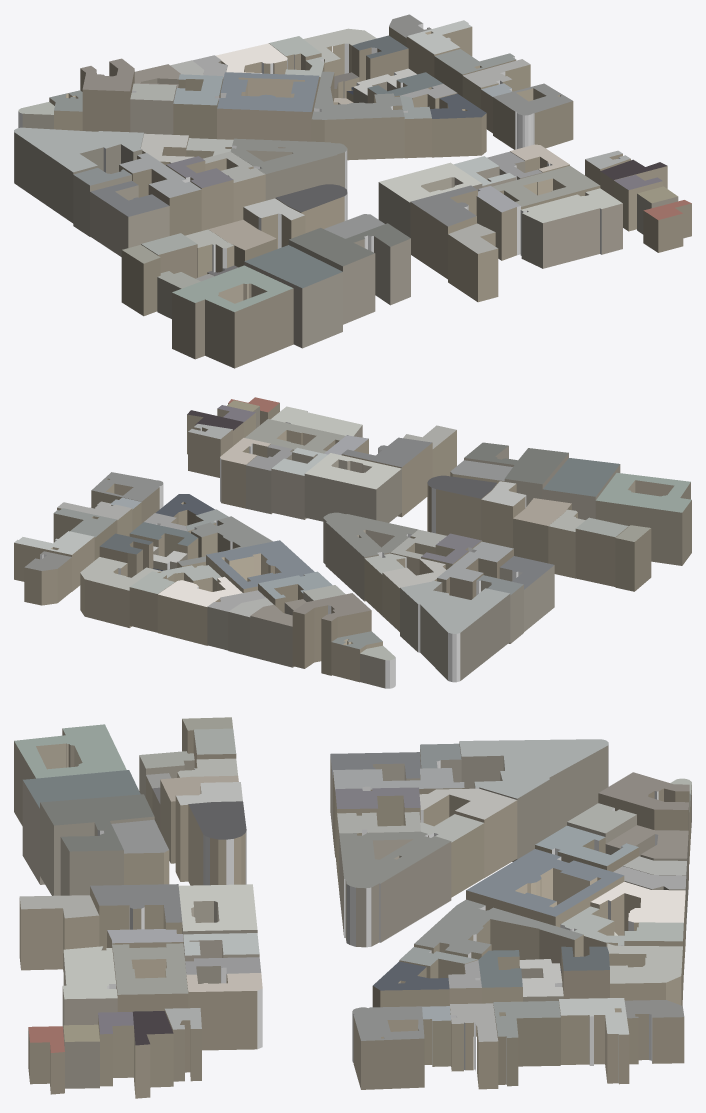
3 views of the same model, one above another, from view 1: azimuth 30°, elevation 25°; view 2: azimuth 150°, elevation 25°; view 3: azimuth 270°, elevation 25° (orthographic). The views are drawn at different scales.
Parts seen in each view (by area): view 1: tuile; view 2: tuile; view 3: tuile.
Part boxes in pixels (x1,y1,x2,y2): tuile: (14, 14, 691, 368); tuile: (14, 397, 691, 688); tuile: (14, 717, 691, 1098).
Size of the model in its own units: 272 by 39.35 by 249.
